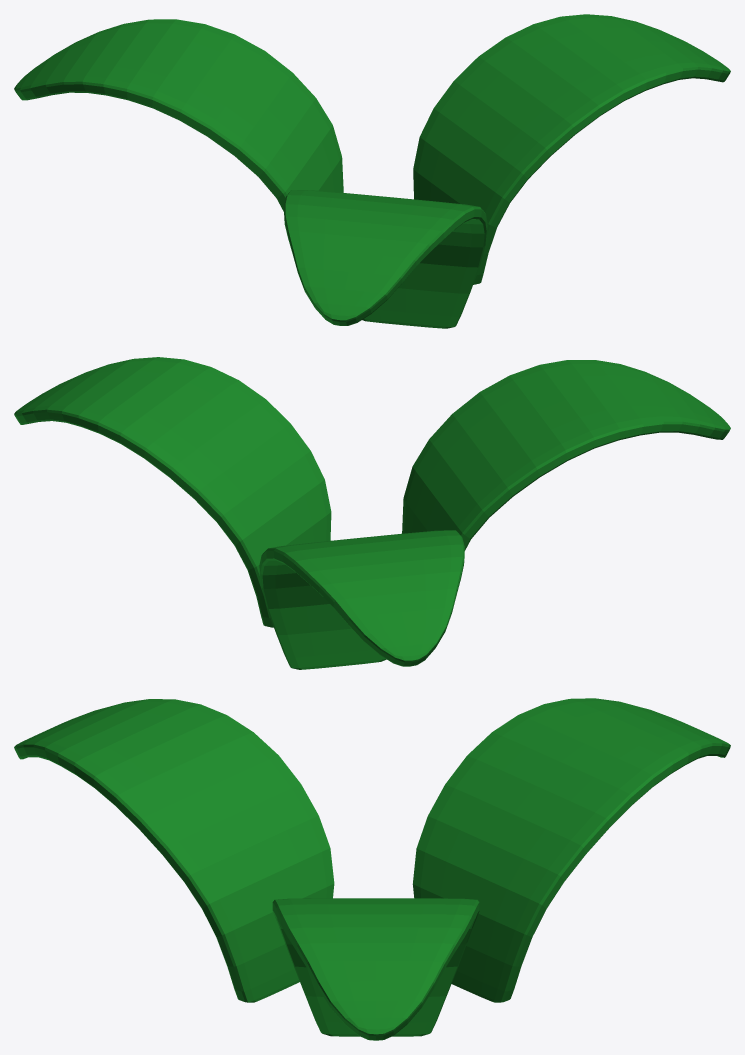
File: Grass_1.fbx
3 renders of one model, top to bottom at view 1: azimuth 30°, elevation 25°; view 2: azimuth 150°, elevation 25°; view 3: azimuth 270°, elevation 25°, orthographic. The views are drawn at different scales.
Visible parts, largest first — view 1: Cube; view 2: Cube; view 3: Cube.
Boxes of the visible parts, <box> form: Cube: <box>14,14,730,328</box>; Cube: <box>14,357,730,669</box>; Cube: <box>14,698,730,1040</box>.
Size of the model in its own units: 448 by 141 by 456.
